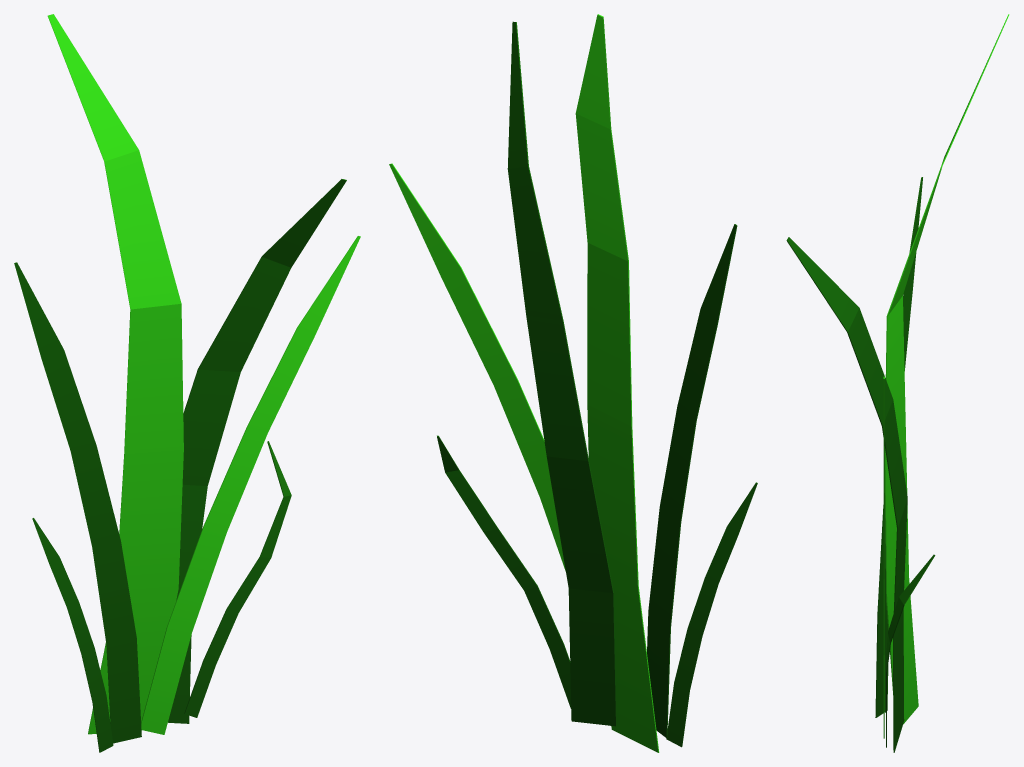
Rendered from PlantBig.fbx.
3 renders of one model, left to right at view 1: azimuth 30°, elevation 25°; view 2: azimuth 150°, elevation 25°; view 3: azimuth 270°, elevation 25°, orthographic. The views are drawn at different scales.
Visible parts, largest first — view 1: PlantBig; view 2: PlantBig; view 3: PlantBig.
Boxes of the visible parts, left/top/right/bottom form: PlantBig: left=14, top=14, right=360, bottom=752; PlantBig: left=389, top=14, right=757, bottom=752; PlantBig: left=786, top=14, right=1009, bottom=752.
Bounding box in the file's own units: 0.988 × 1.99 × 0.5743.
Materials: 1 (1 with a texture image).
